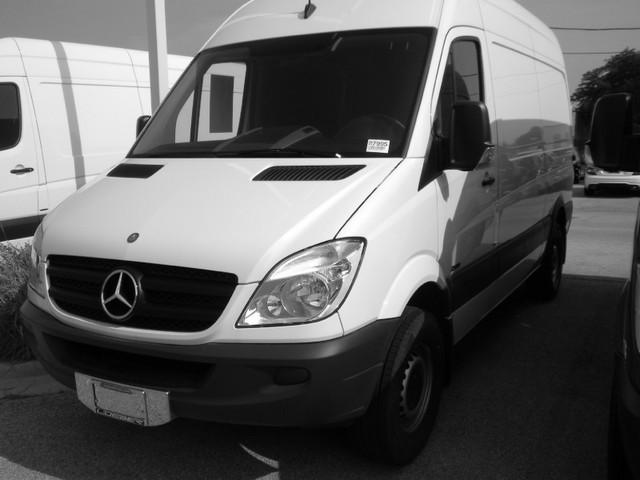car: (18, 1, 578, 474)
